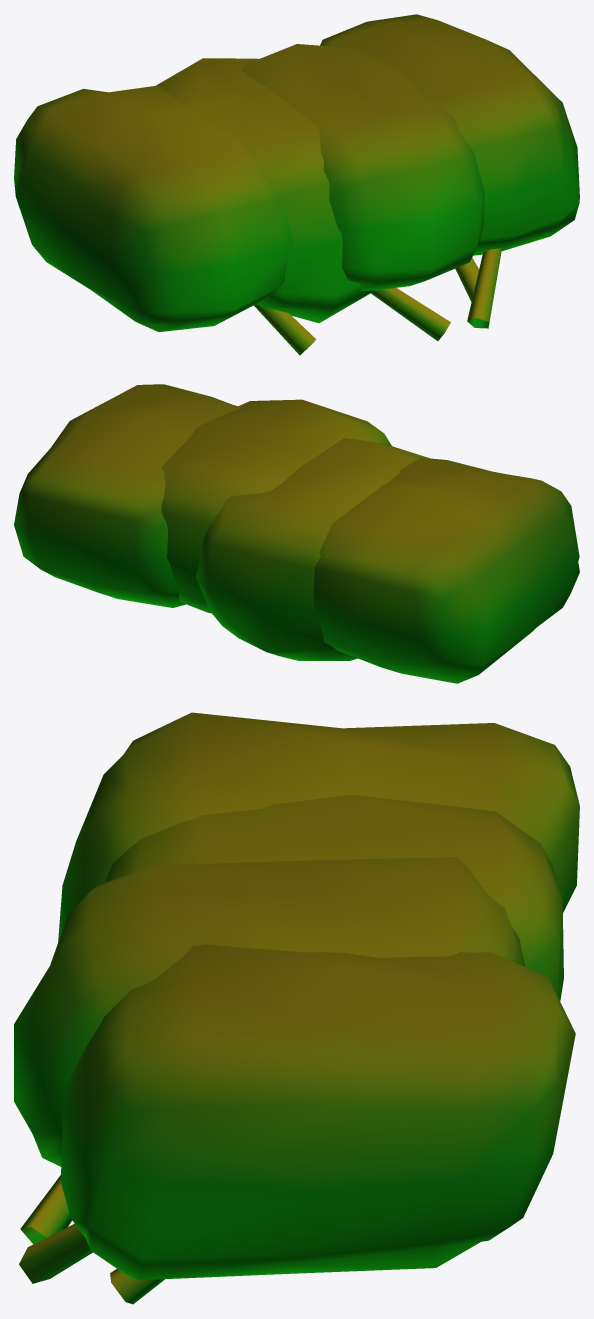
Rendered from scrub_clump_b.glb.
3 views of the same model, one above another, from view 1: azimuth 30°, elevation 25°; view 2: azimuth 150°, elevation 25°; view 3: azimuth 270°, elevation 25° (orthographic). The views are drawn at different scales.
Visible parts, largest first — view 1: scrub_clump_b; view 2: scrub_clump_b; view 3: scrub_clump_b.
Part boxes in pixels (x1,y1,x2,y2): scrub_clump_b: (14, 14, 579, 355); scrub_clump_b: (14, 384, 579, 683); scrub_clump_b: (14, 712, 579, 1304).
Size of what is drawn, in the model's own units: 2.26 by 0.9417 by 1.38.
